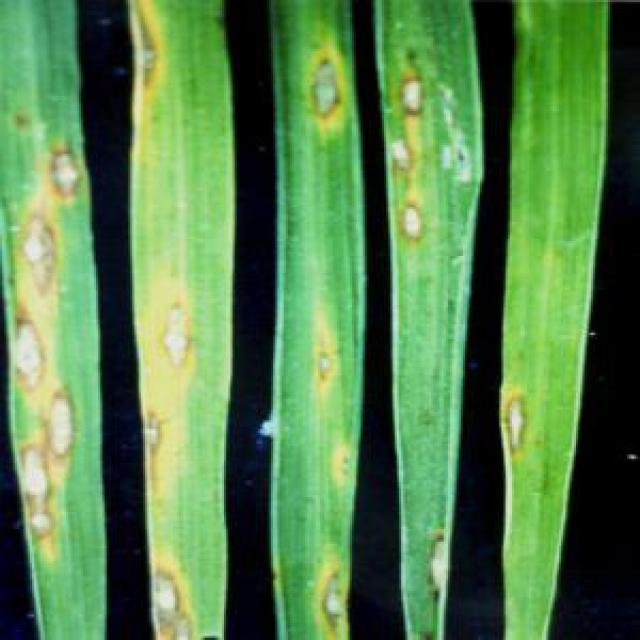Leaf_Blast: (143, 275, 232, 380), (277, 542, 373, 636), (2, 431, 66, 548), (4, 202, 83, 296), (286, 292, 345, 410), (412, 480, 458, 623), (126, 10, 207, 91), (0, 301, 60, 390), (288, 43, 350, 128), (491, 376, 546, 465), (384, 51, 446, 128), (32, 130, 98, 199), (26, 386, 90, 455), (139, 559, 194, 638), (312, 433, 361, 497), (378, 122, 431, 177), (386, 181, 431, 241), (132, 409, 186, 458)
